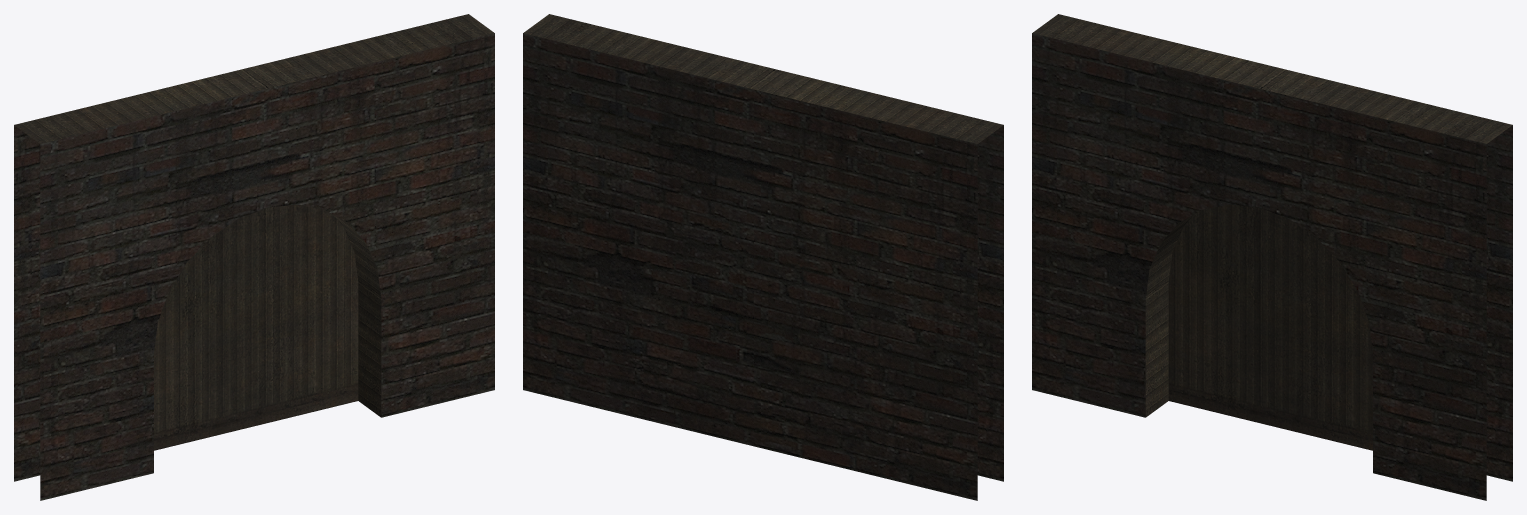
The model's file is wall_hs_15.obj.
3 views of the same model, side by side, from view 1: azimuth 30°, elevation 25°; view 2: azimuth 150°, elevation 25°; view 3: azimuth 330°, elevation 25° (orthographic).
Parts seen in each view (by area): view 1: wall_hs_15; view 2: wall_hs_15; view 3: wall_hs_15.
Boxes of the visible parts, left/top/right/bottom form: wall_hs_15: left=14, top=14, right=494, bottom=500; wall_hs_15: left=523, top=14, right=1003, bottom=500; wall_hs_15: left=1032, top=14, right=1512, bottom=500.
Bounding box in the file's own units: 4 × 3 × 0.4.
